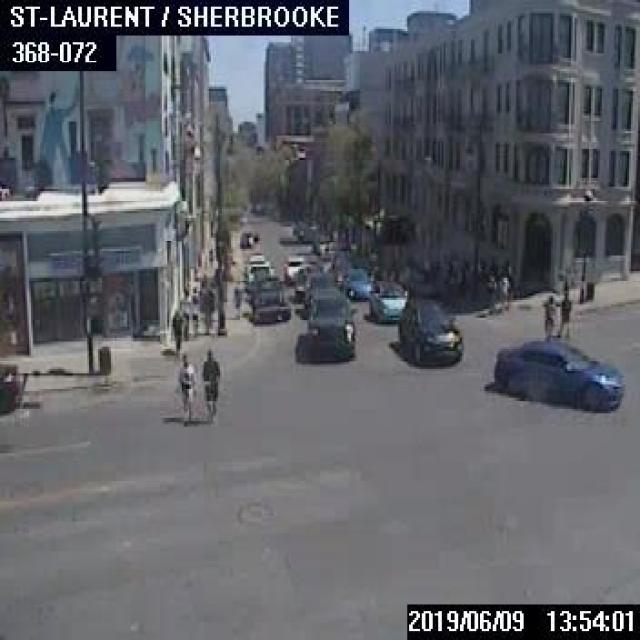pedestrian: (174, 353, 196, 425), (201, 347, 218, 411), (542, 292, 556, 338), (557, 288, 570, 336), (481, 272, 494, 312), (170, 310, 181, 355), (179, 288, 189, 337), (495, 274, 508, 311), (190, 287, 198, 336), (231, 283, 240, 318), (205, 245, 212, 268)
vehicle: (491, 339, 622, 411), (398, 298, 463, 362), (299, 293, 356, 358), (368, 279, 408, 320), (252, 289, 290, 323), (303, 272, 335, 308), (0, 358, 20, 413), (342, 266, 376, 298), (291, 266, 320, 300), (244, 262, 273, 284), (282, 256, 304, 282), (238, 229, 254, 247)
